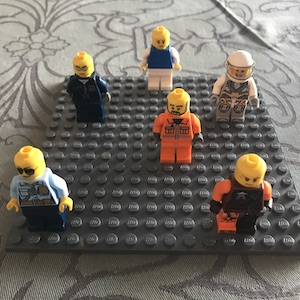Lego: (5, 145, 74, 229), (210, 154, 272, 236), (152, 88, 202, 164), (210, 51, 261, 122), (66, 51, 113, 122), (139, 26, 182, 92)
